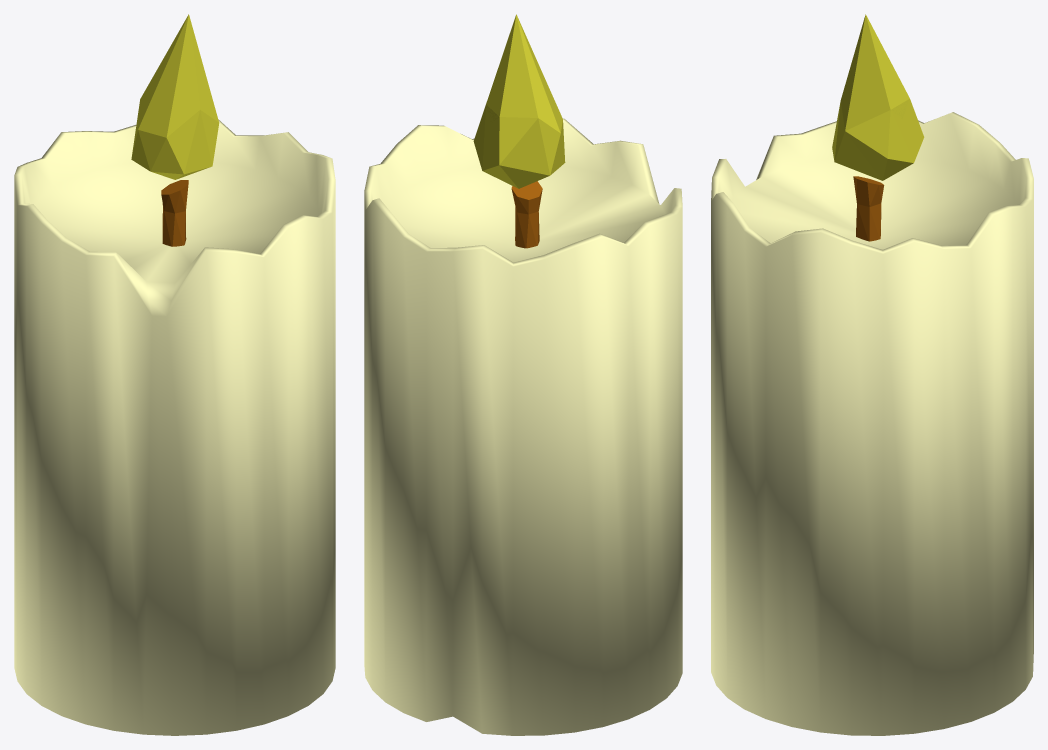
The model's file is candle1_3 .fbx.
3 views of the same model, side by side, from view 1: azimuth 30°, elevation 25°; view 2: azimuth 150°, elevation 25°; view 3: azimuth 270°, elevation 25° (orthographic).
Visible parts, largest first — view 1: Cylinder.016; view 2: Cylinder.016; view 3: Cylinder.016.
Boxes of the visible parts, x1,y1,x2,y2 form: Cylinder.016: (14,14,335,735); Cylinder.016: (364,14,682,735); Cylinder.016: (711,14,1033,735).
Bounding box in the file's own units: 88.52 × 202 × 88.52.
